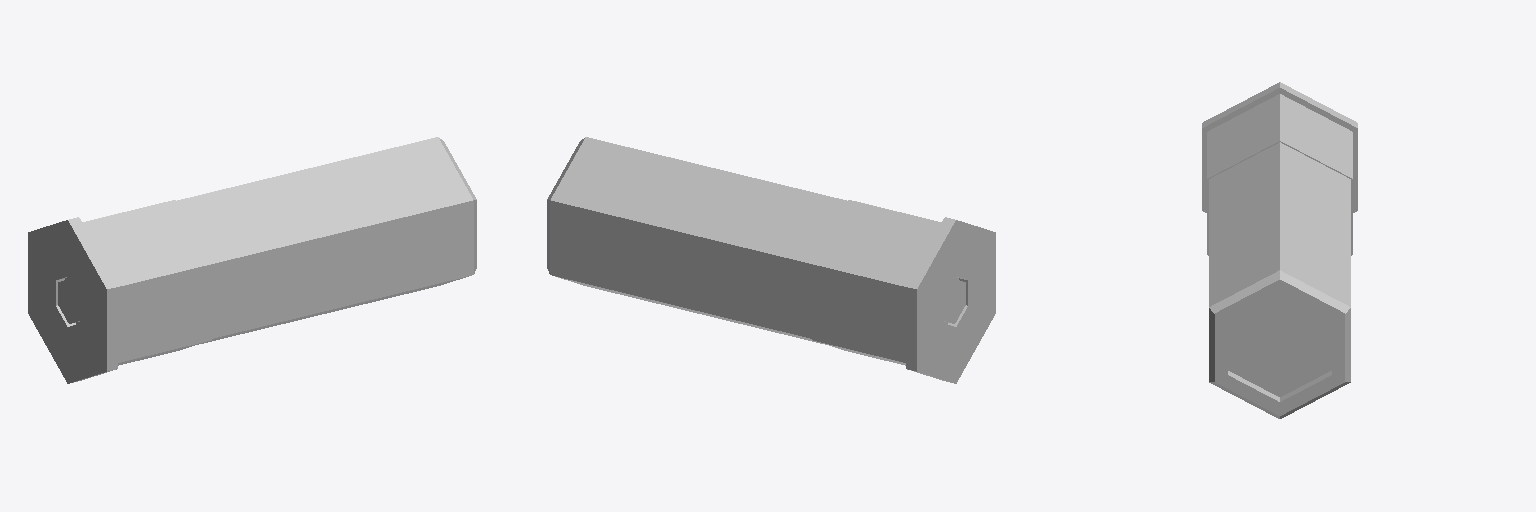
The model's file is tcp.12g_bullet.obj.
3 renders of one model, left to right at view 1: azimuth 30°, elevation 25°; view 2: azimuth 150°, elevation 25°; view 3: azimuth 270°, elevation 25°, orthographic.
Visible parts, largest first — view 1: bulletModel; view 2: bulletModel; view 3: bulletModel.
Part boxes in pixels (bbox=[...]): bulletModel: bbox=[28, 137, 476, 383]; bulletModel: bbox=[547, 137, 995, 383]; bulletModel: bbox=[1202, 82, 1357, 418].
Bounding box in the file's own units: 1.06 × 0.4413 × 0.3822.